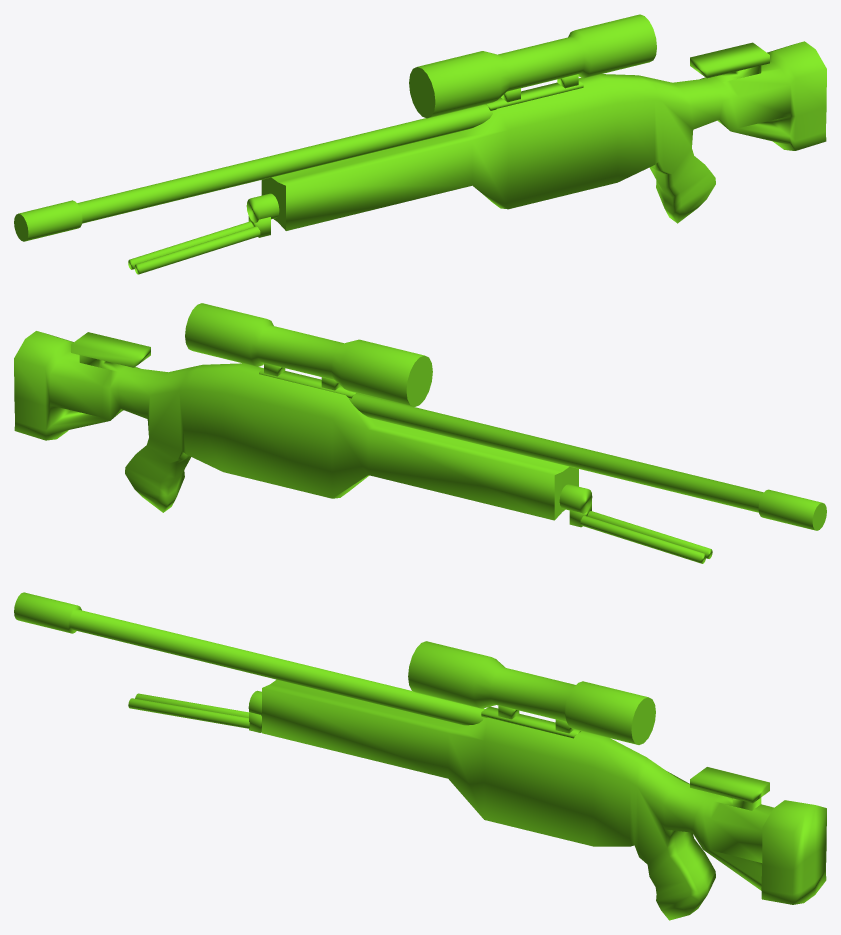
File: scout.fbx
3 renders of one model, top to bottom at view 1: azimuth 30°, elevation 25°; view 2: azimuth 150°, elevation 25°; view 3: azimuth 330°, elevation 25°, orthographic.
Visible parts, largest first — view 1: Cube; view 2: Cube; view 3: Cube.
Part boxes in pixels (x1=…): Cube: x1=14, y1=14, x2=826, y2=274; Cube: x1=14, y1=303, x2=826, y2=563; Cube: x1=14, y1=592, x2=826, y2=920.
Size of the model in its own units: 1008 by 261 by 74.02.
